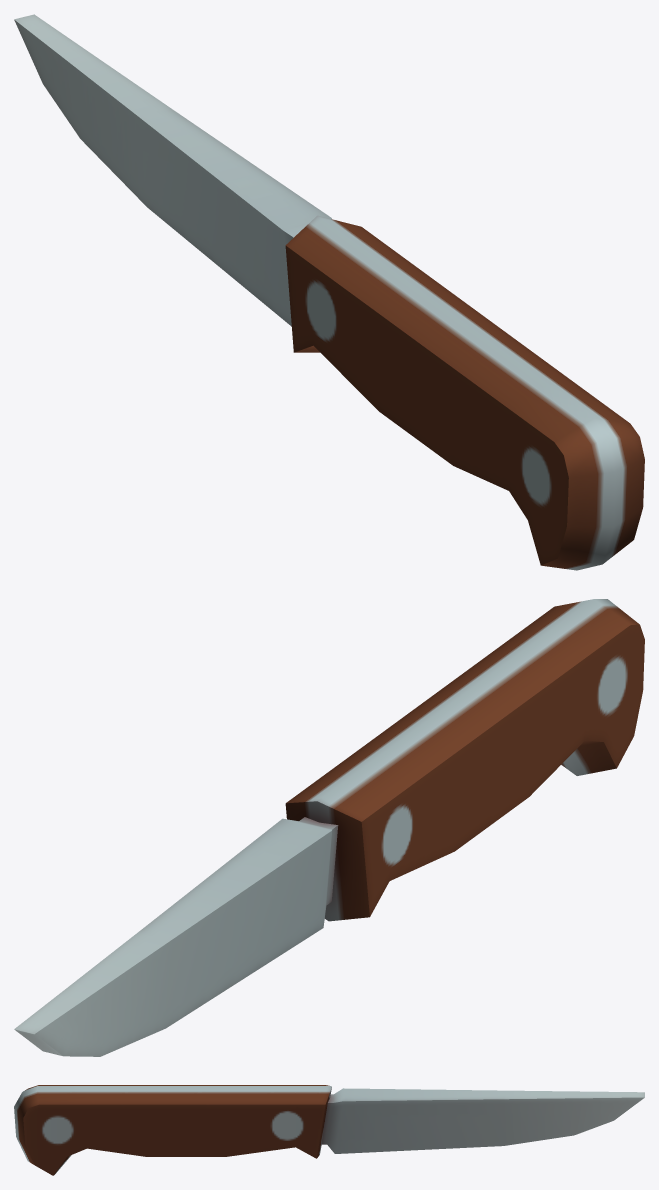
The model's file is small_knife_01.fbx.
3 renders of one model, top to bottom at view 1: azimuth 30°, elevation 25°; view 2: azimuth 150°, elevation 25°; view 3: azimuth 270°, elevation 25°, orthographic. The views are drawn at different scales.
Parts seen in each view (by area): view 1: small_knife_01; view 2: small_knife_01; view 3: small_knife_01.
Boxes of the visible parts, <box> form: small_knife_01: <box>14,14,644,570</box>; small_knife_01: <box>14,599,644,1056</box>; small_knife_01: <box>14,1085,644,1175</box>.
Bounding box in the file's own units: 3.09 × 6.4 × 41.6.
